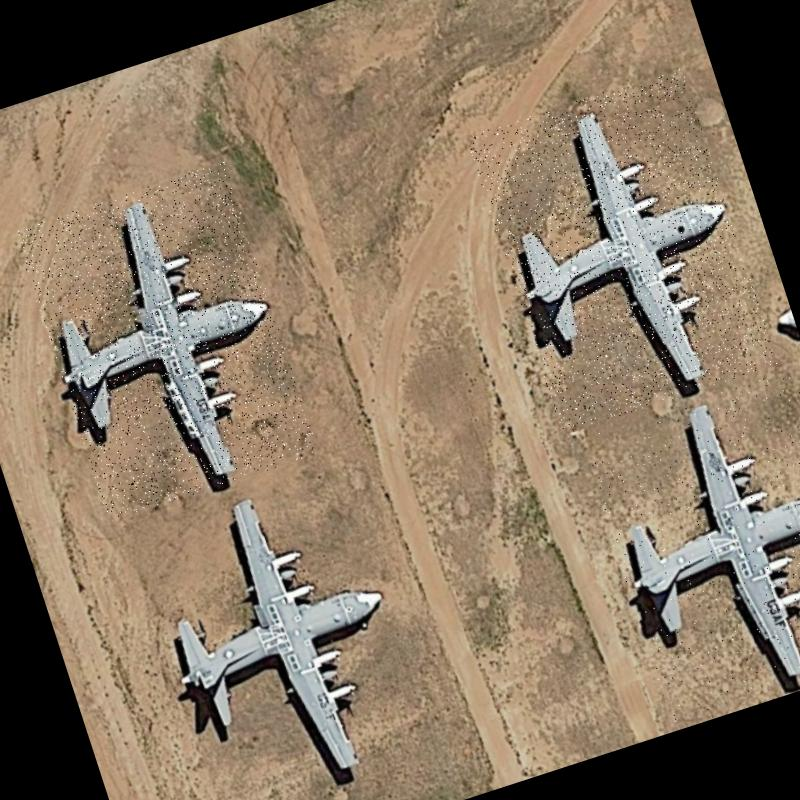A2: (465, 66, 778, 434), (119, 451, 449, 800), (14, 162, 320, 522), (579, 368, 800, 723)
